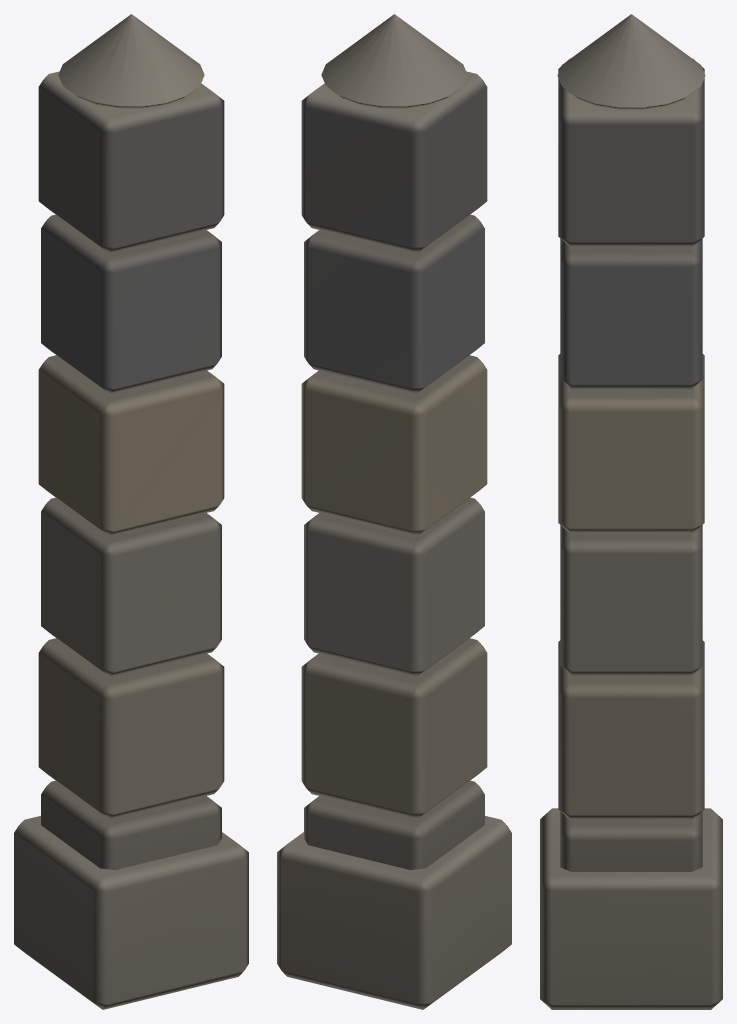
Rendered from ashlar-post-end.glb.
The picture shows the model from 3 angles, left to right: view 1: azimuth 30°, elevation 25°; view 2: azimuth 150°, elevation 25°; view 3: azimuth 270°, elevation 25°; orthographic projection.
Parts seen in each view (by area): view 1: body; view 2: body; view 3: body.
Part boxes in pixels (box(x1,y1,x2,y2)): body: box(14, 14, 248, 1009); body: box(277, 14, 511, 1009); body: box(540, 14, 722, 1009).
Size of what is drawn, in the model's own units: 0.3701 by 2.15 by 0.3701.
